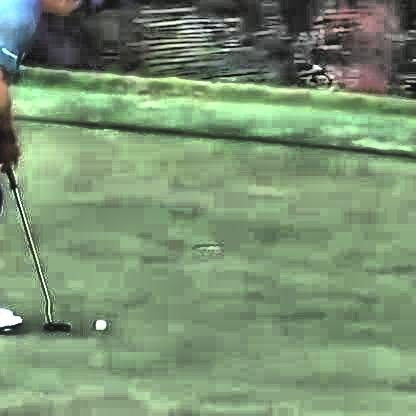golfball: (91, 317, 107, 330)
